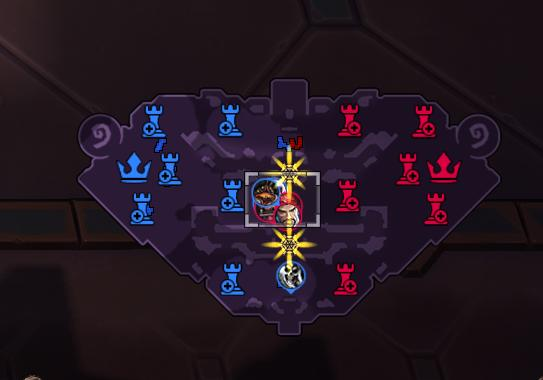blue nexus: (115, 150, 153, 183)
blue player: (251, 178, 280, 208), (276, 262, 305, 292)
blue tower: (217, 102, 243, 137), (141, 103, 167, 138), (219, 261, 245, 295), (129, 191, 155, 225), (219, 177, 244, 212), (157, 151, 182, 186)
red nexus: (425, 151, 462, 183)
red player: (272, 200, 301, 228), (253, 197, 282, 225)
red tower: (334, 177, 360, 212), (336, 102, 362, 137), (332, 261, 358, 295), (411, 103, 436, 138), (395, 151, 420, 185), (423, 191, 448, 225)
